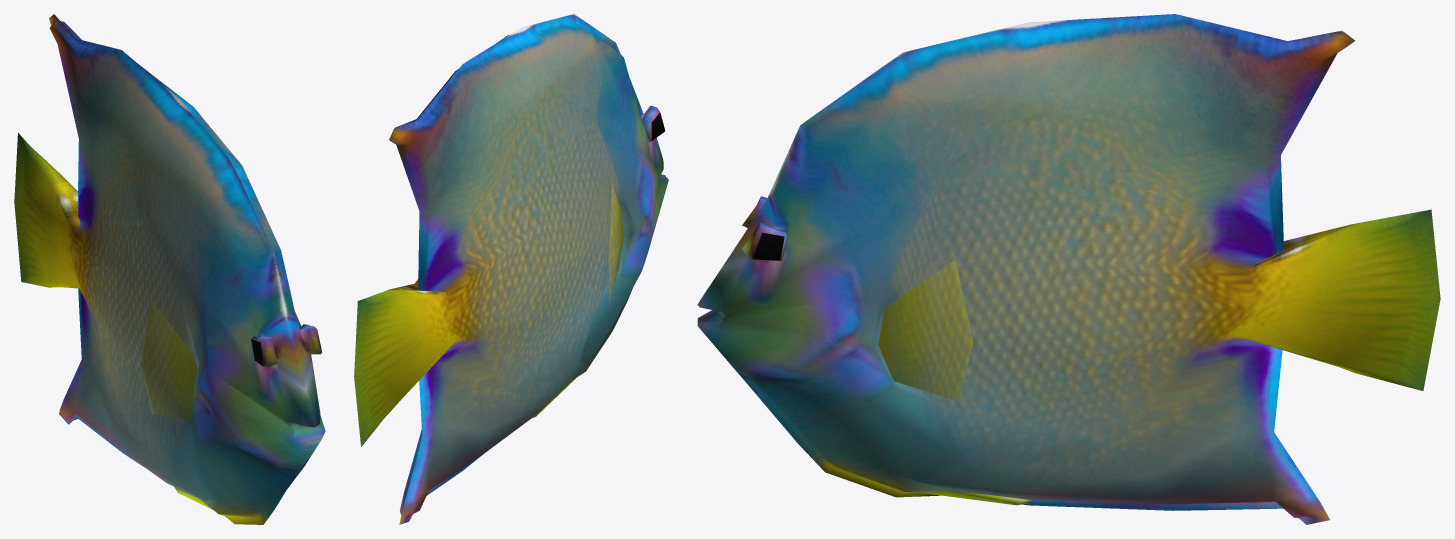
File: bigbkuefish.fbx
3 views of the same model, side by side, from view 1: azimuth 30°, elevation 25°; view 2: azimuth 150°, elevation 25°; view 3: azimuth 270°, elevation 25° (orthographic). The views are drawn at different scales.
Visible parts, largest first — view 1: tropicalFishMaya2008:bigbluefish; view 2: tropicalFishMaya2008:bigbluefish; view 3: tropicalFishMaya2008:bigbluefish.
Boxes of the visible parts, x1=… form: tropicalFishMaya2008:bigbluefish: x1=14, y1=14, x2=325, y2=524; tropicalFishMaya2008:bigbluefish: x1=354, y1=14, x2=668, y2=524; tropicalFishMaya2008:bigbluefish: x1=697, y1=14, x2=1440, y2=524.
Bounding box in the file's own units: 6.92 × 21.05 × 27.74.
